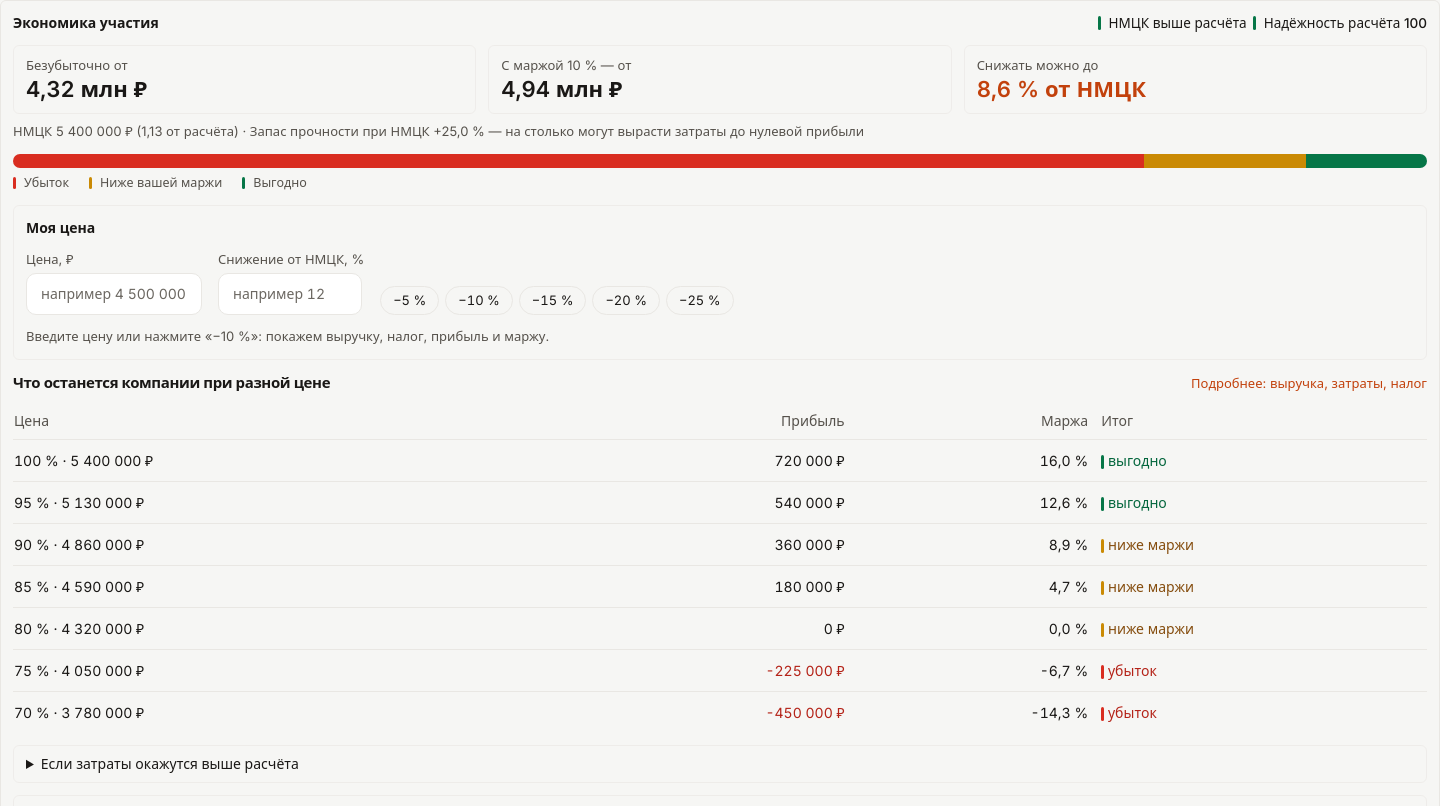
Test case: «Моя цена» › цена выше НМЦК — предупреждение
The width and height of the screenshot is (1440, 806).
In the field named "Моя цена, ₽": (114,294) [26,273,202,315], type "6000000"
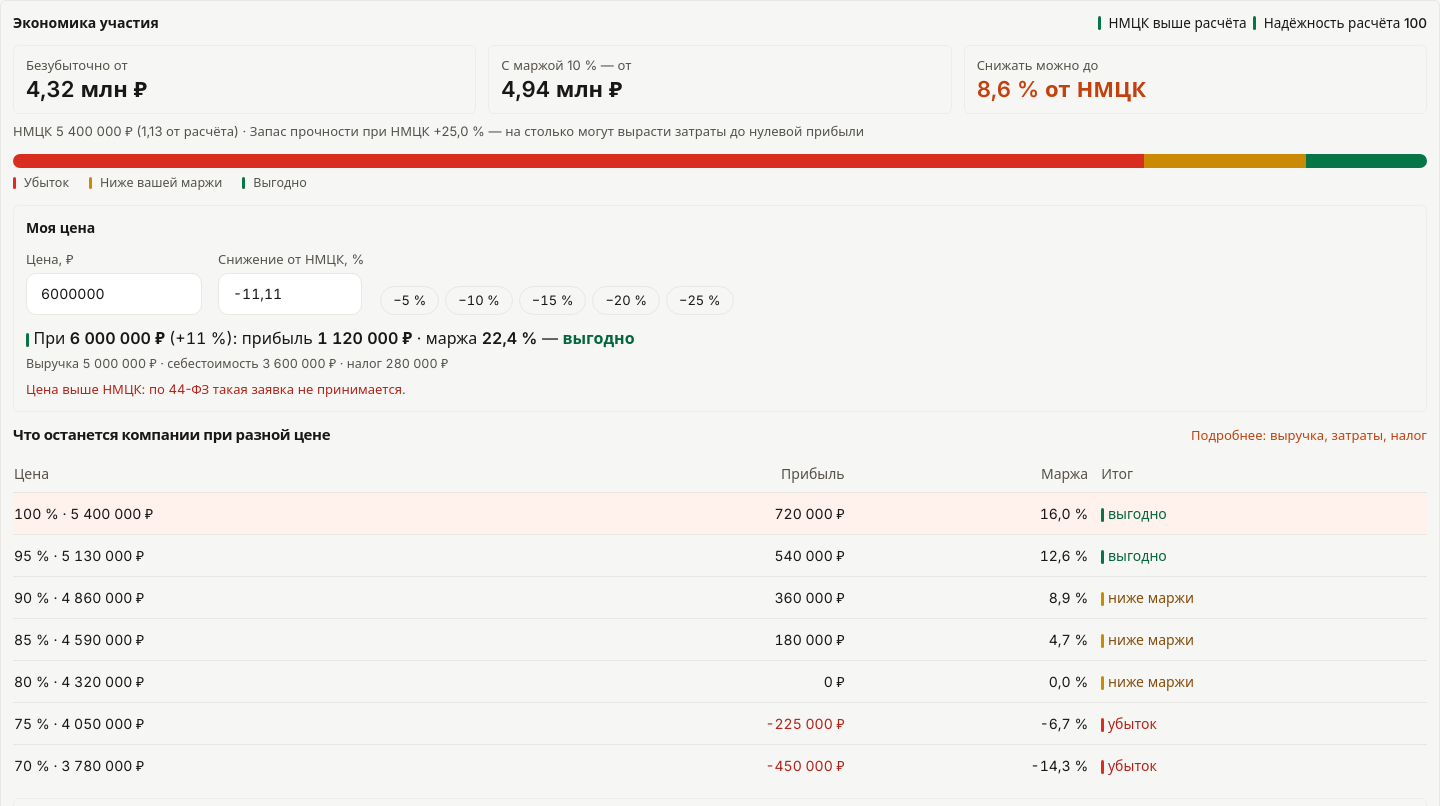
Expected: the text with test id "my-price-above" shows "не принимается", [26,381,406,397]
